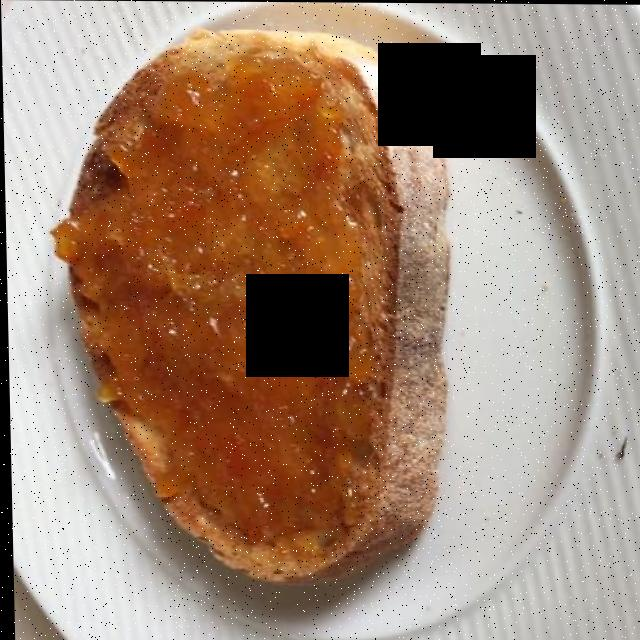bread-toast: (63, 41, 439, 580)
jam: (40, 57, 362, 566)
